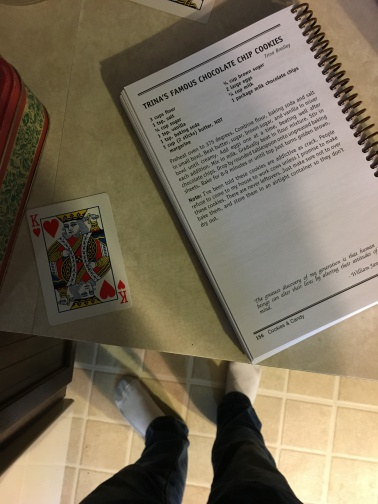king: (25, 194, 134, 325)
